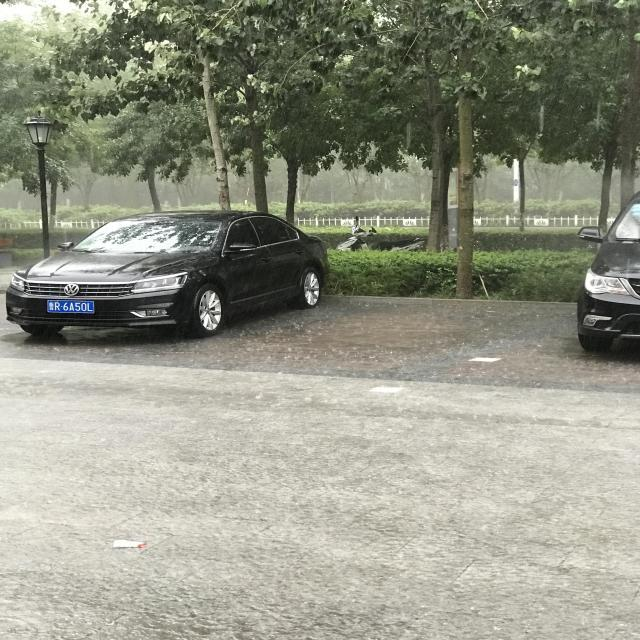car: (208, 310, 338, 636), (193, 0, 354, 62)
